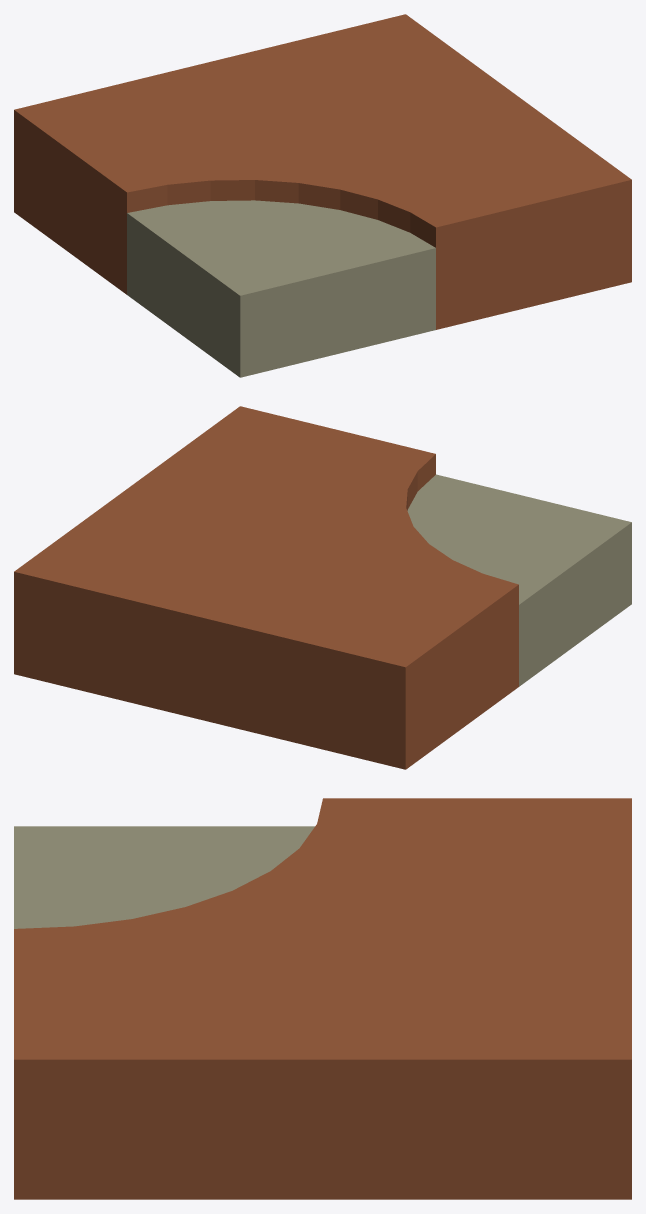
Rendered from Floor-Outdoor-4x4x1-Path-Wide-End-Round.FBX.
3 renders of one model, top to bottom at view 1: azimuth 30°, elevation 25°; view 2: azimuth 150°, elevation 25°; view 3: azimuth 270°, elevation 25°, orthographic. The views are drawn at different scales.
Parts seen in each view (by area): view 1: Floor-Outdoor-4x4x1-Path-Wide-End-Round; view 2: Floor-Outdoor-4x4x1-Path-Wide-End-Round; view 3: Floor-Outdoor-4x4x1-Path-Wide-End-Round.
Boxes of the visible parts, <box> form: Floor-Outdoor-4x4x1-Path-Wide-End-Round: <box>14,14,631,377</box>; Floor-Outdoor-4x4x1-Path-Wide-End-Round: <box>14,406,631,769</box>; Floor-Outdoor-4x4x1-Path-Wide-End-Round: <box>14,798,631,1199</box>.
Size of the model in its own units: 40 by 40 by 10.
